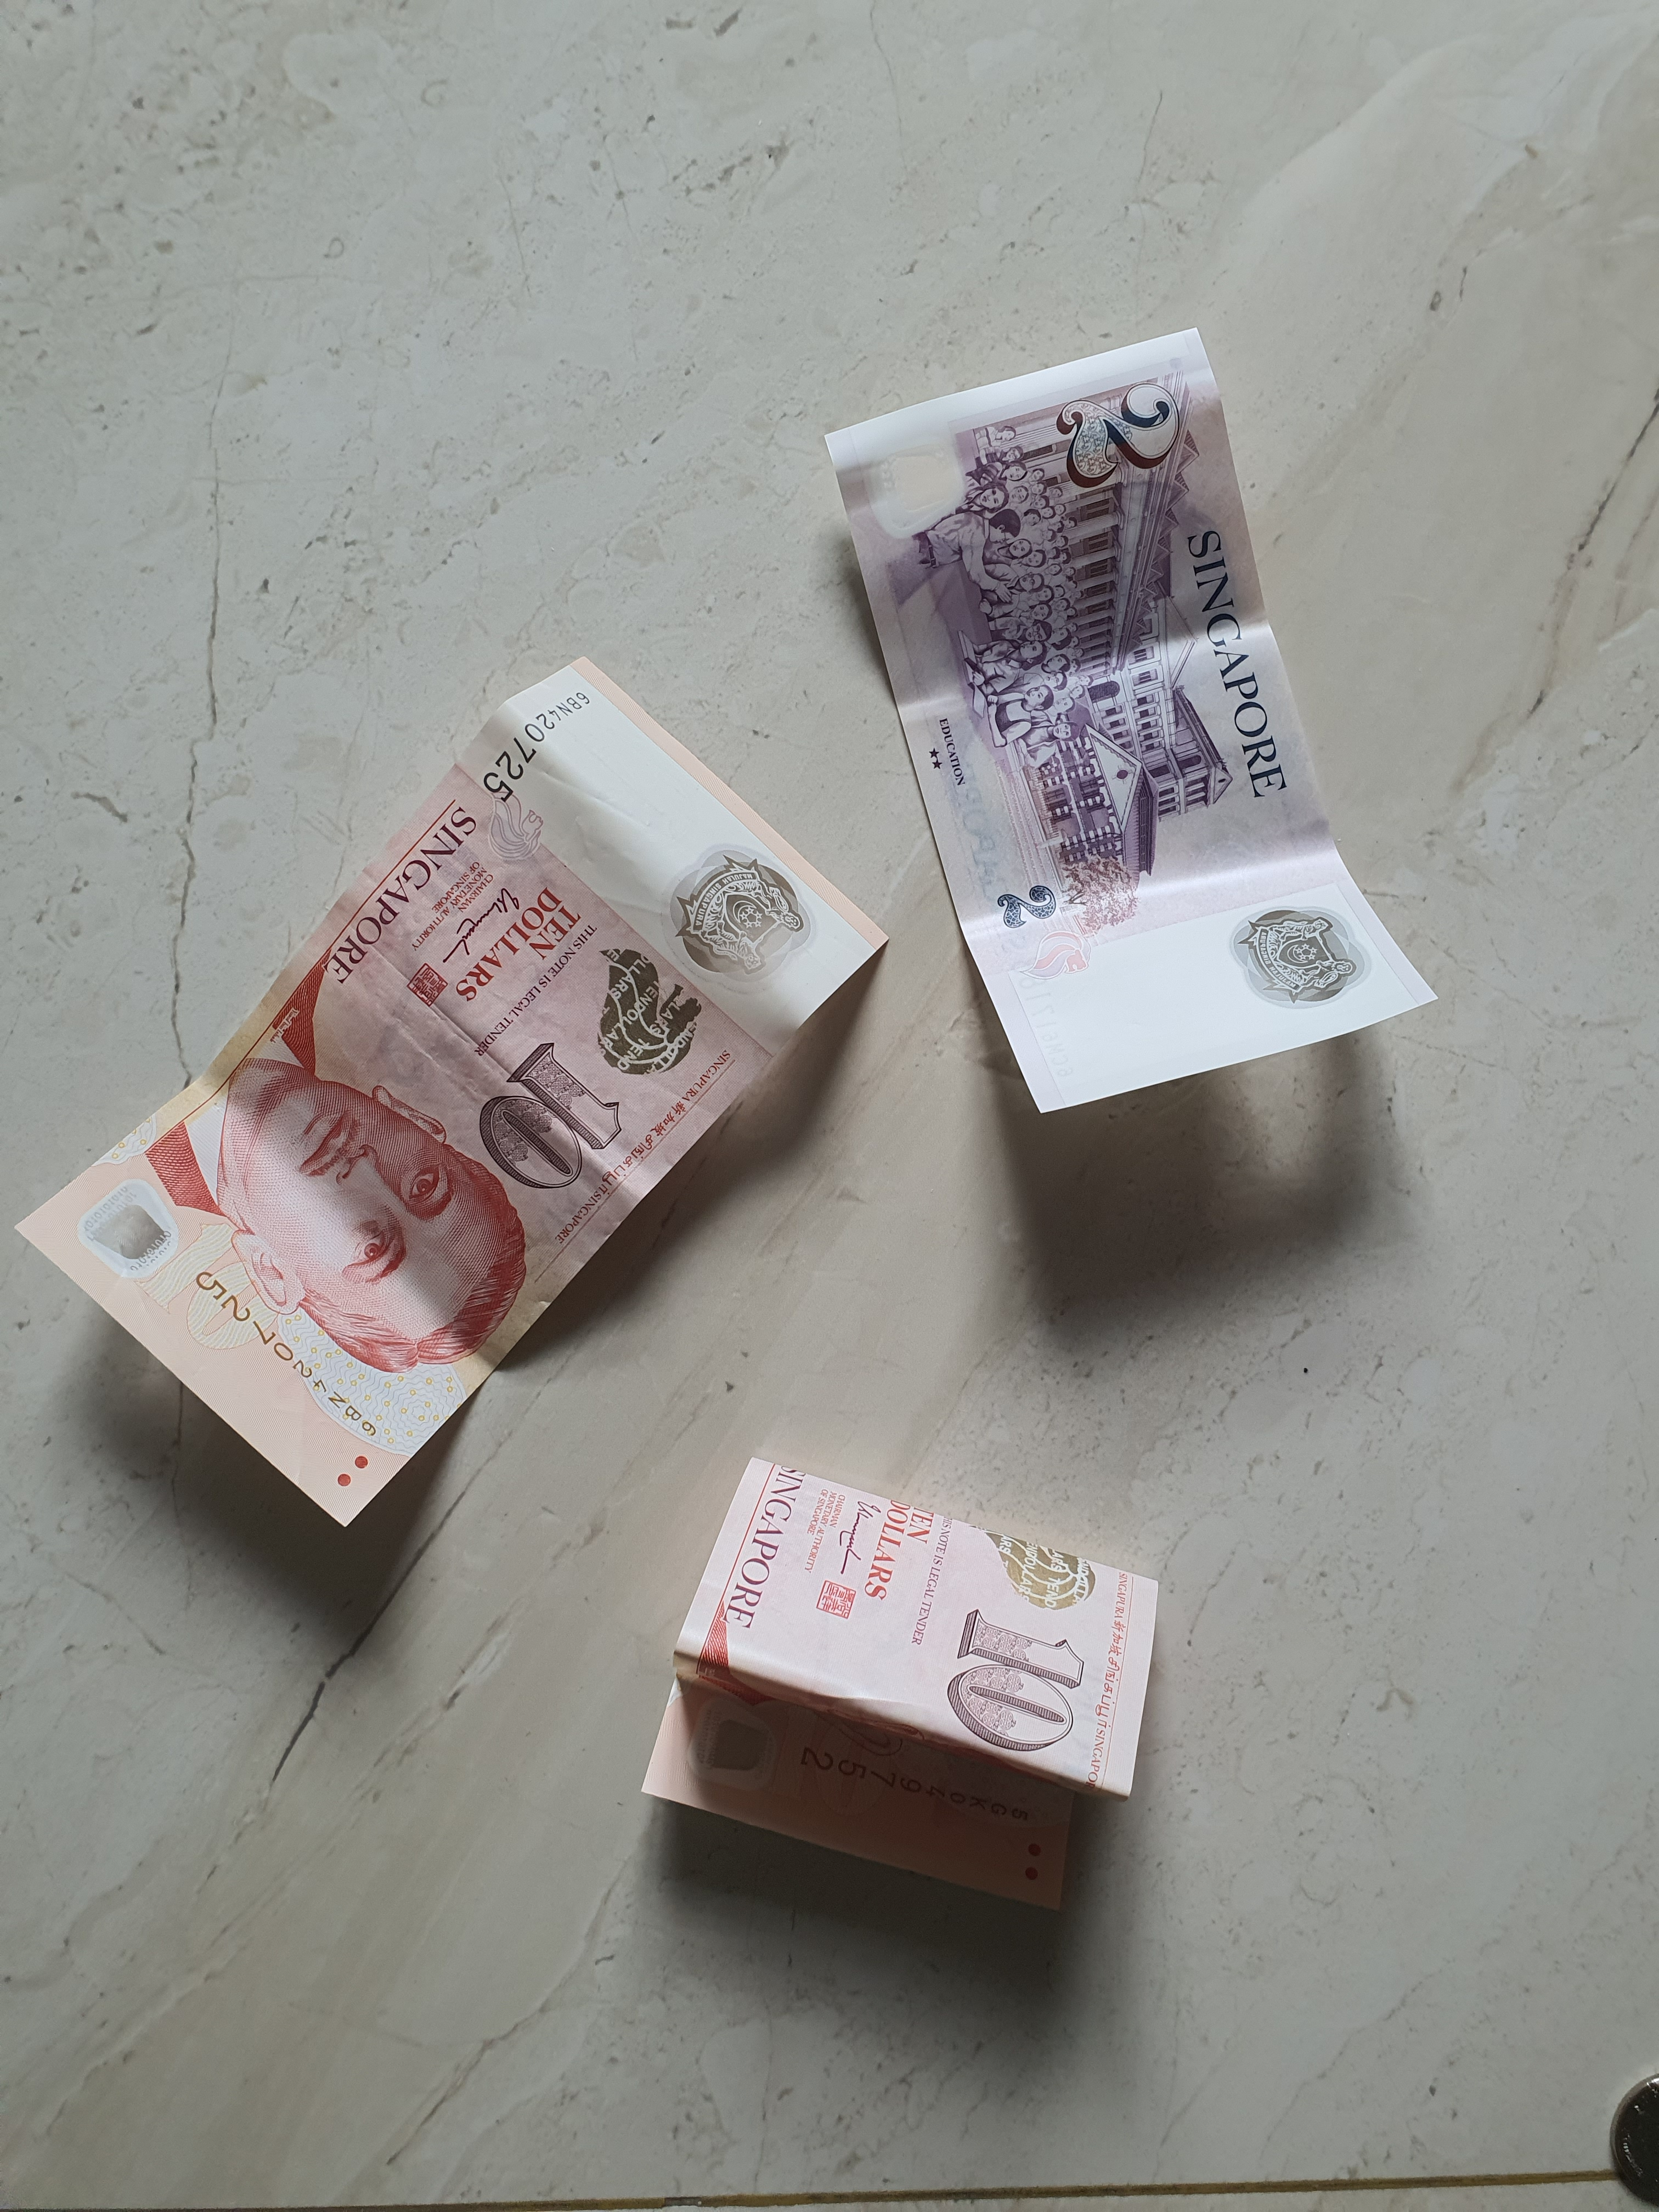$10: (14, 653, 890, 1526), (638, 1458, 1161, 1909)
$2: (824, 326, 1439, 1113)
